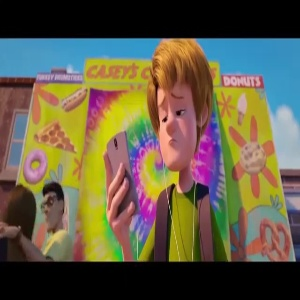Shagy: (142, 39, 233, 180)
